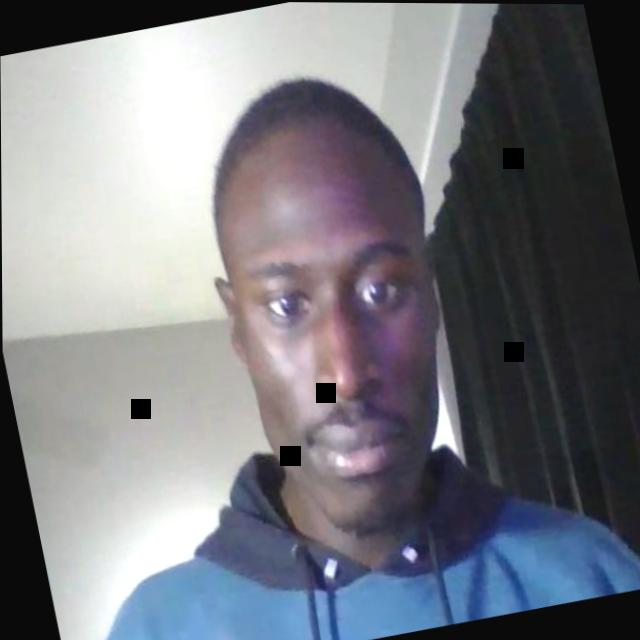NO-Mask: (212, 170, 481, 554)
